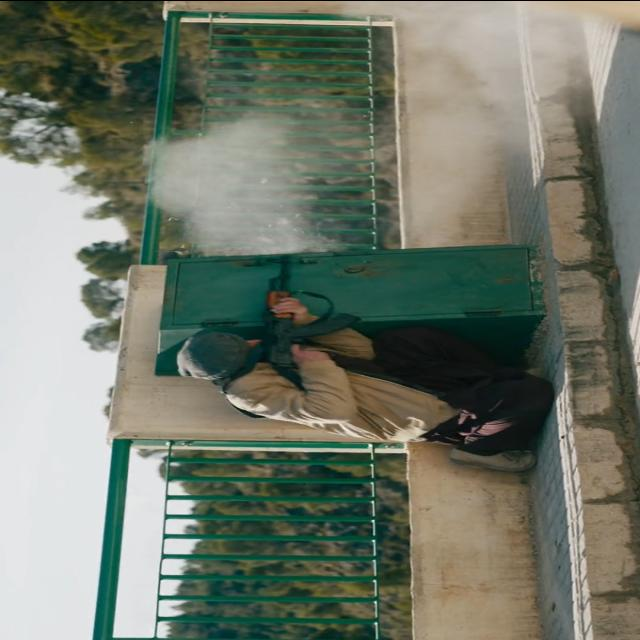terrorist: (177, 252, 552, 470)
